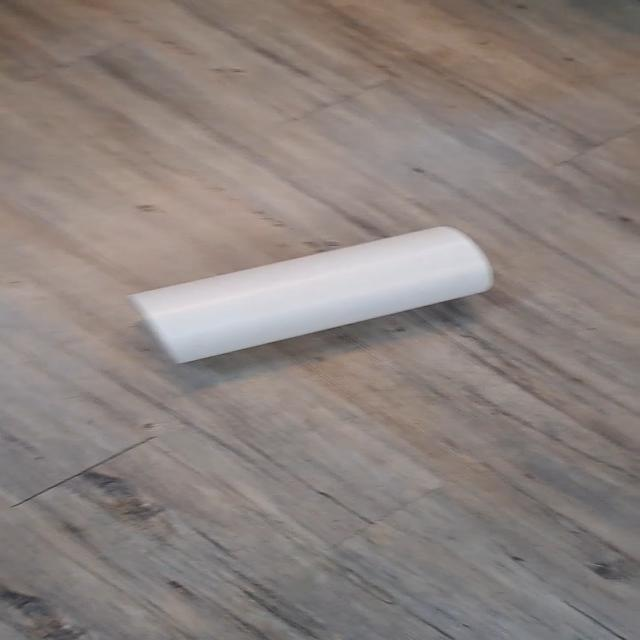CORAL: (131, 227, 506, 376)
